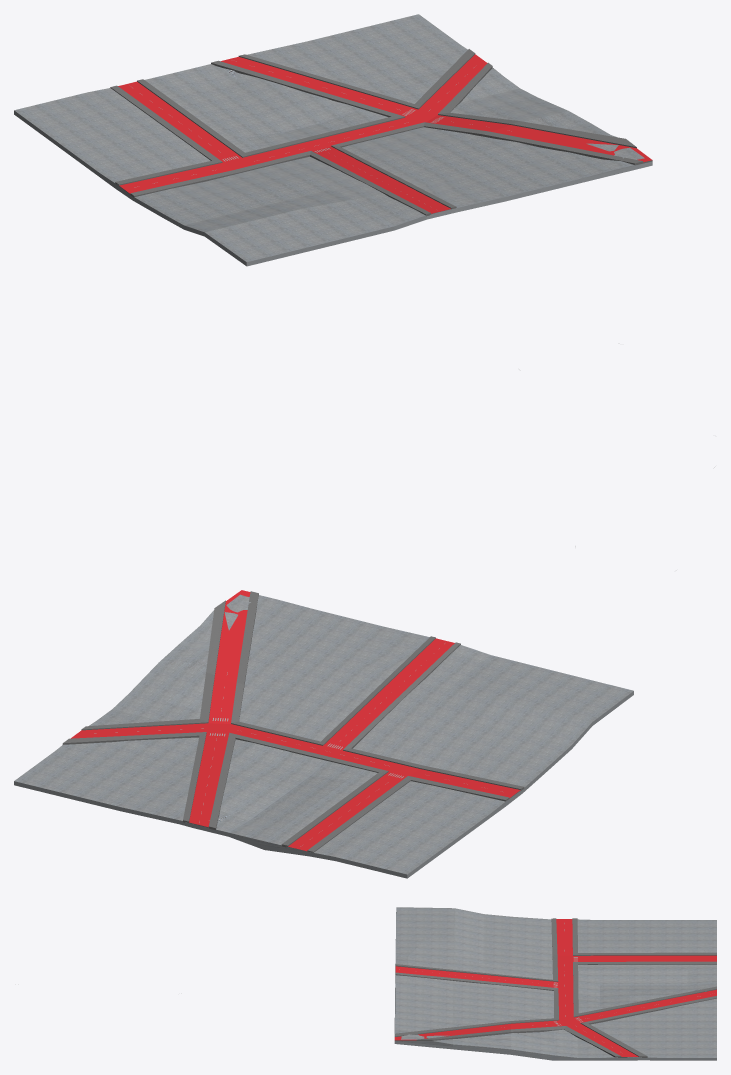
Rendered from Boden2.fbx.
The picture shows the model from 3 angles, top to bottom: view 1: azimuth 30°, elevation 25°; view 2: azimuth 150°, elevation 25°; view 3: azimuth 270°, elevation 25°; orthographic projection. The views are drawn at different scales.
Parts seen in each view (by area): view 1: Geländer, Strasse; view 2: Geländer, Strasse; view 3: Geländer, Strasse.
Part boxes in pixels (<box>): Geländer: <box>14,14,652,266</box>; Strasse: <box>110,49,652,216</box>; Geländer: <box>14,594,633,878</box>; Strasse: <box>62,590,524,852</box>; Geländer: <box>394,907,716,1060</box>; Strasse: <box>394,918,716,1057</box>.
Bounding box in the file's own units: 23778 × 1937 × 51843.
